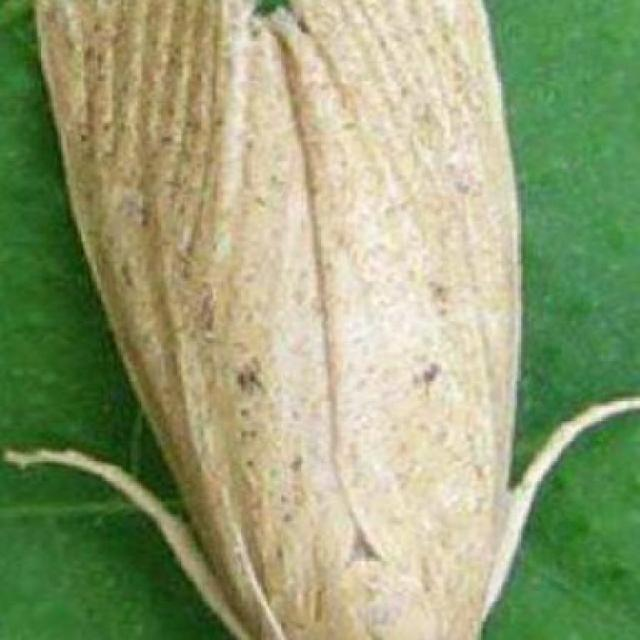stem-borer: (24, 0, 576, 640)
